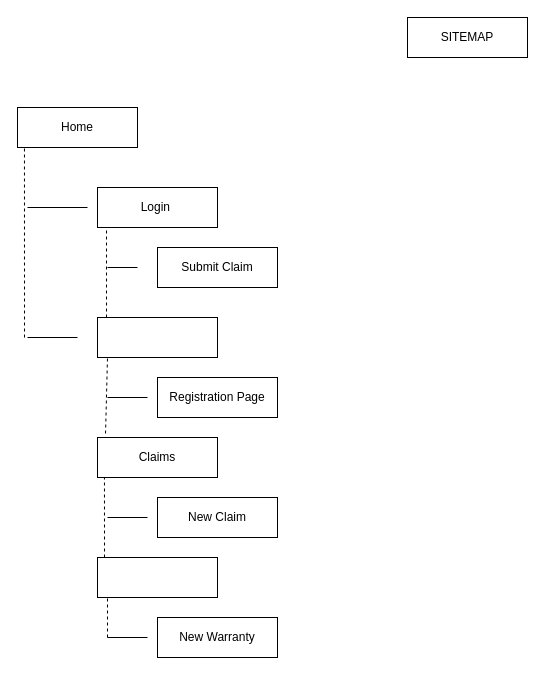
Some shapes in this 545 by 675 pixel diagram are drawn without their labels. Here are the shapes that lost their labels. From the top down, the centre of each, then its label:
At point (157, 337): "Register".
At point (157, 577): "Manage".
